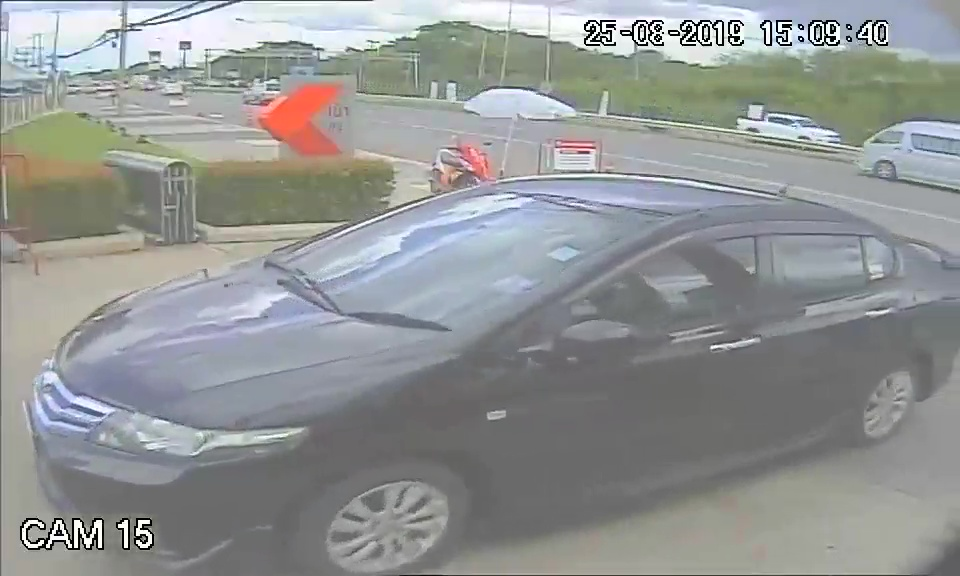sedan: (16, 169, 717, 563)
